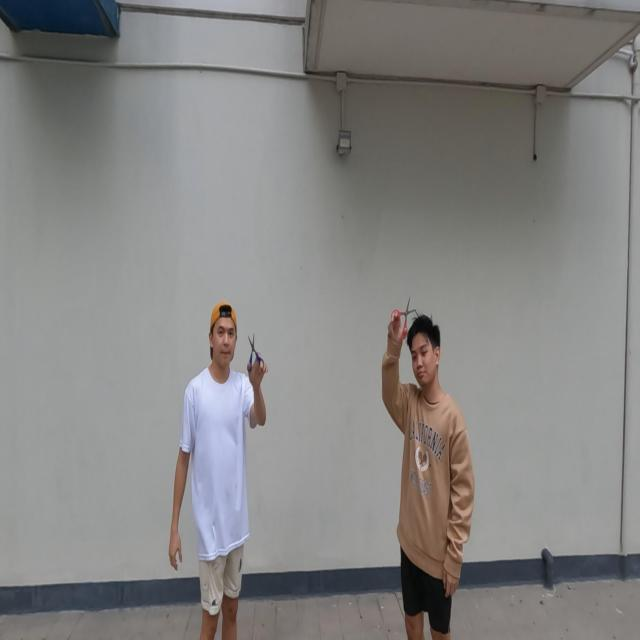scissor: (389, 298, 417, 338), (245, 333, 264, 374)
